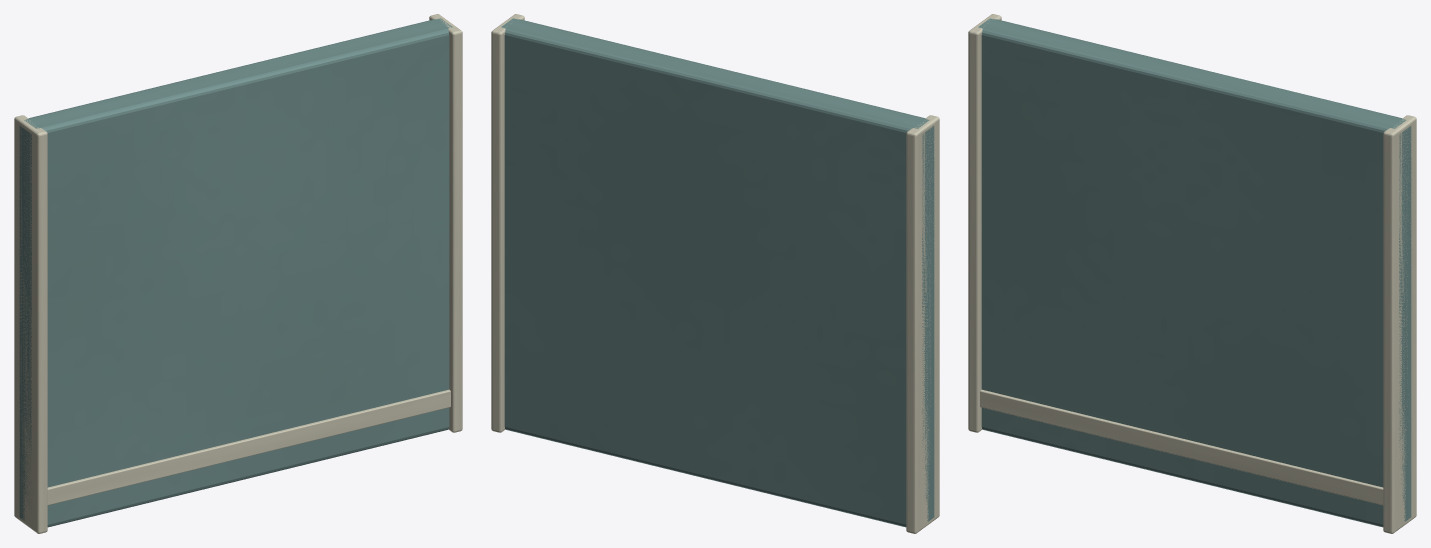
The model's file is Partition_4m.glb.
3 views of the same model, side by side, from view 1: azimuth 30°, elevation 25°; view 2: azimuth 150°, elevation 25°; view 3: azimuth 330°, elevation 25° (orthographic).
Parts seen in each view (by area): view 1: Partition_4m; view 2: Partition_4m; view 3: Partition_4m.
Part boxes in pixels (x1,y1,x2,y2): Partition_4m: [14, 14, 462, 533]; Partition_4m: [491, 14, 939, 533]; Partition_4m: [968, 14, 1416, 533].
Bounding box in the file's own units: 4 × 3.6 × 0.4.
Materials: 2 (2 with a texture image).
